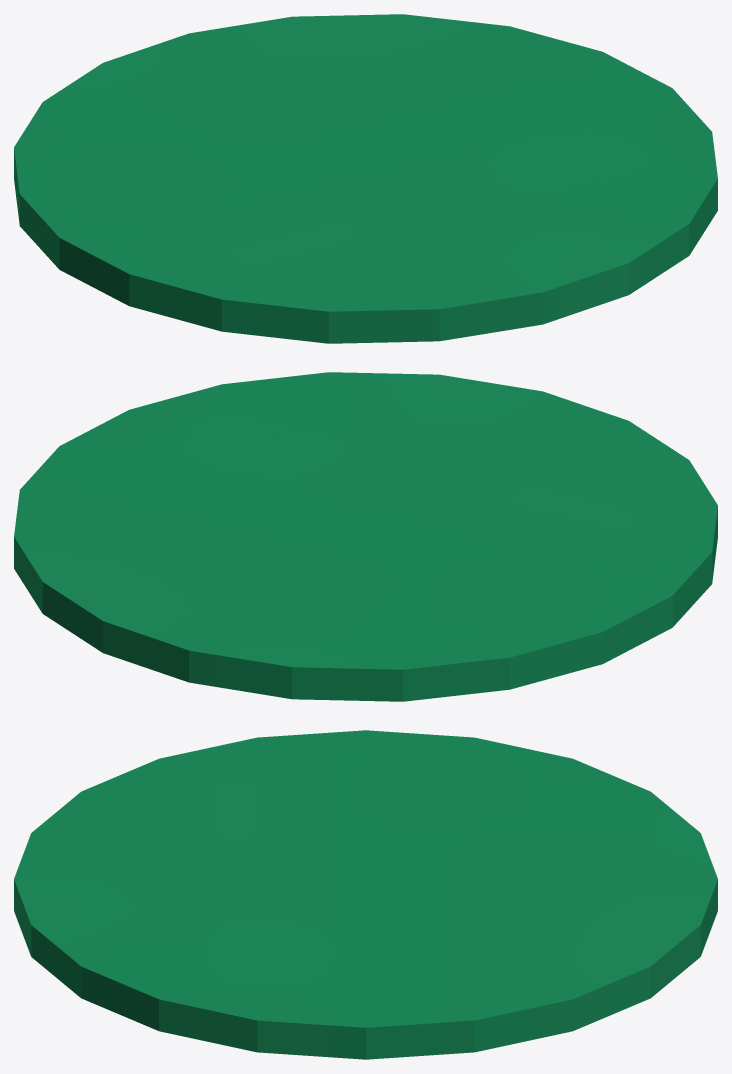
The model's file is mod_aoeCircle.fbx.
3 renders of one model, top to bottom at view 1: azimuth 30°, elevation 25°; view 2: azimuth 150°, elevation 25°; view 3: azimuth 270°, elevation 25°, orthographic.
Visible parts, largest first — view 1: AOECircle; view 2: AOECircle; view 3: AOECircle.
Part boxes in pixels (x1,y1,x2,y2): AOECircle: (14,14,717,343); AOECircle: (14,372,717,701); AOECircle: (14,730,717,1059).
Bounding box in the file's own units: 200 × 10 × 200.
